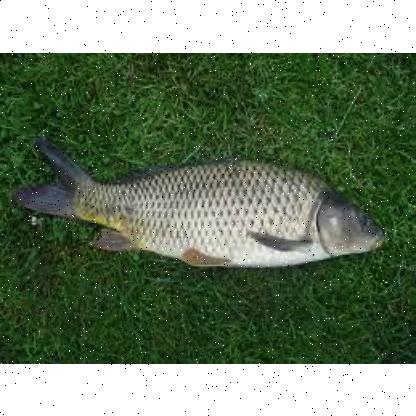ikan-mas: (23, 141, 384, 266)
